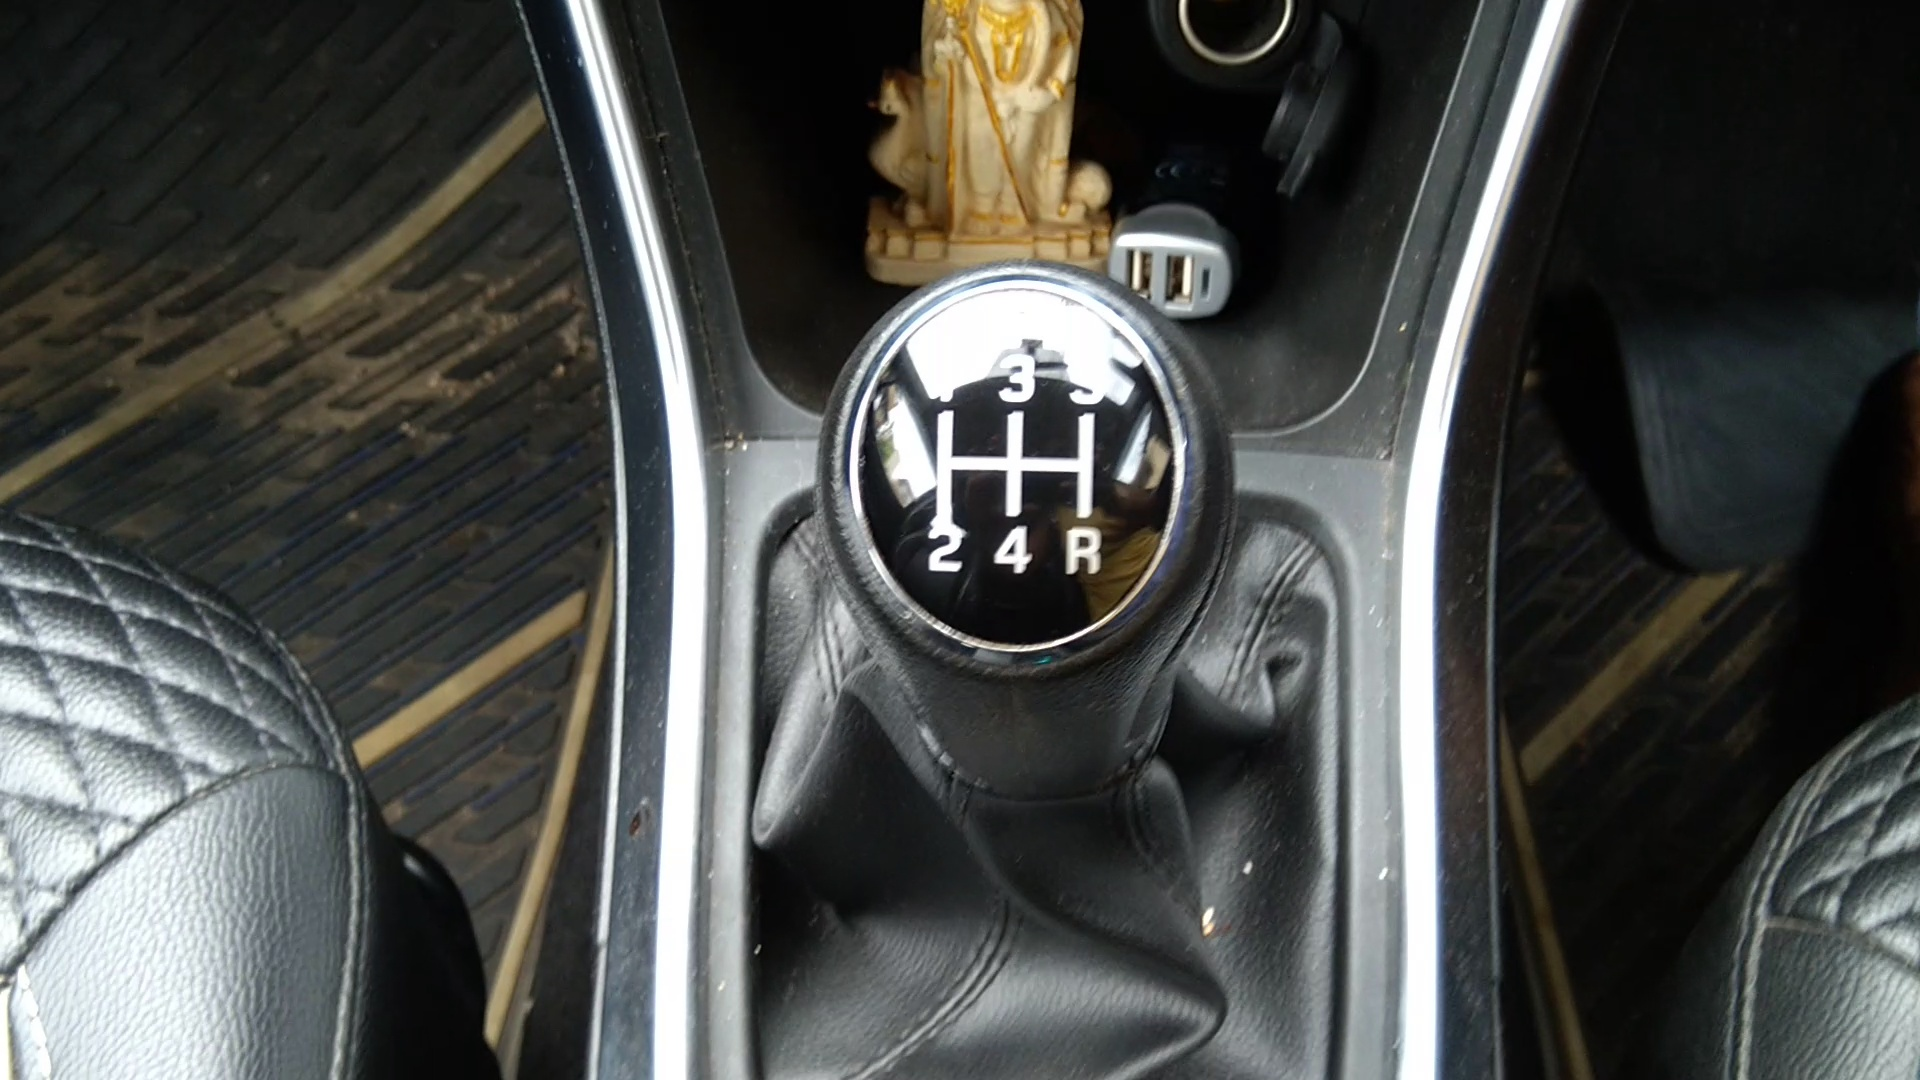manual_gear: (824, 257, 1236, 837)
